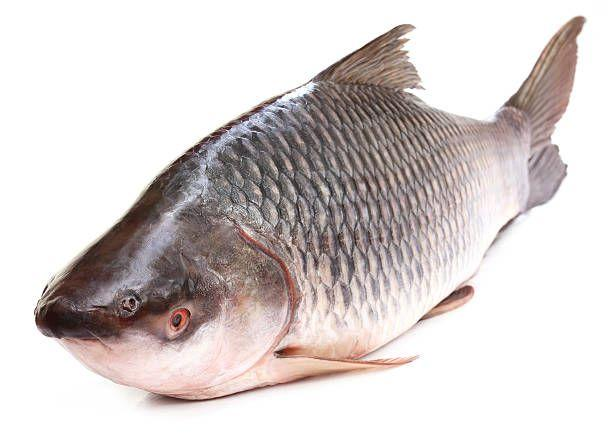Indian Carp: (39, 13, 586, 402)
